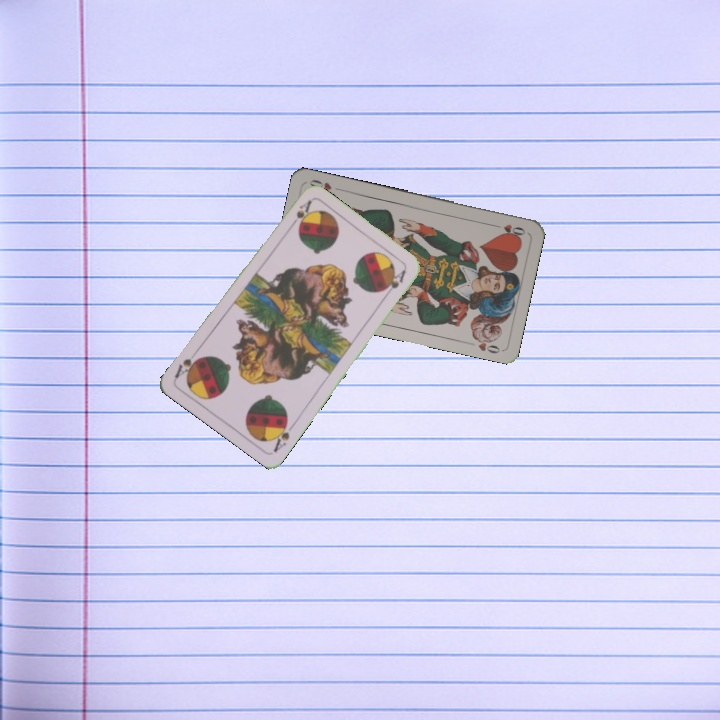HO: (489, 220, 528, 238)
SA: (269, 415, 298, 455), (285, 196, 314, 231)
